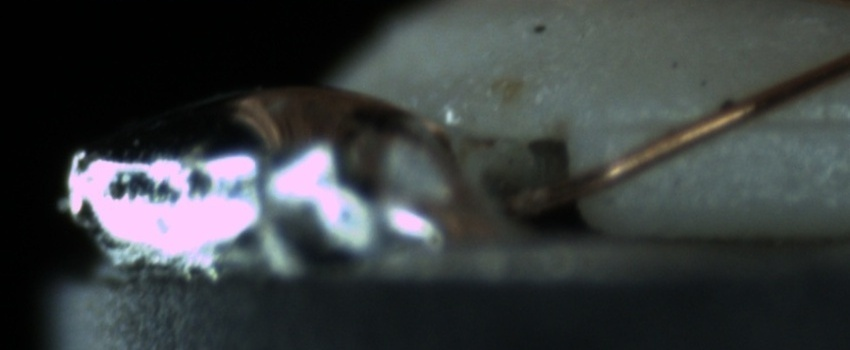DL: (611, 88, 848, 156)
